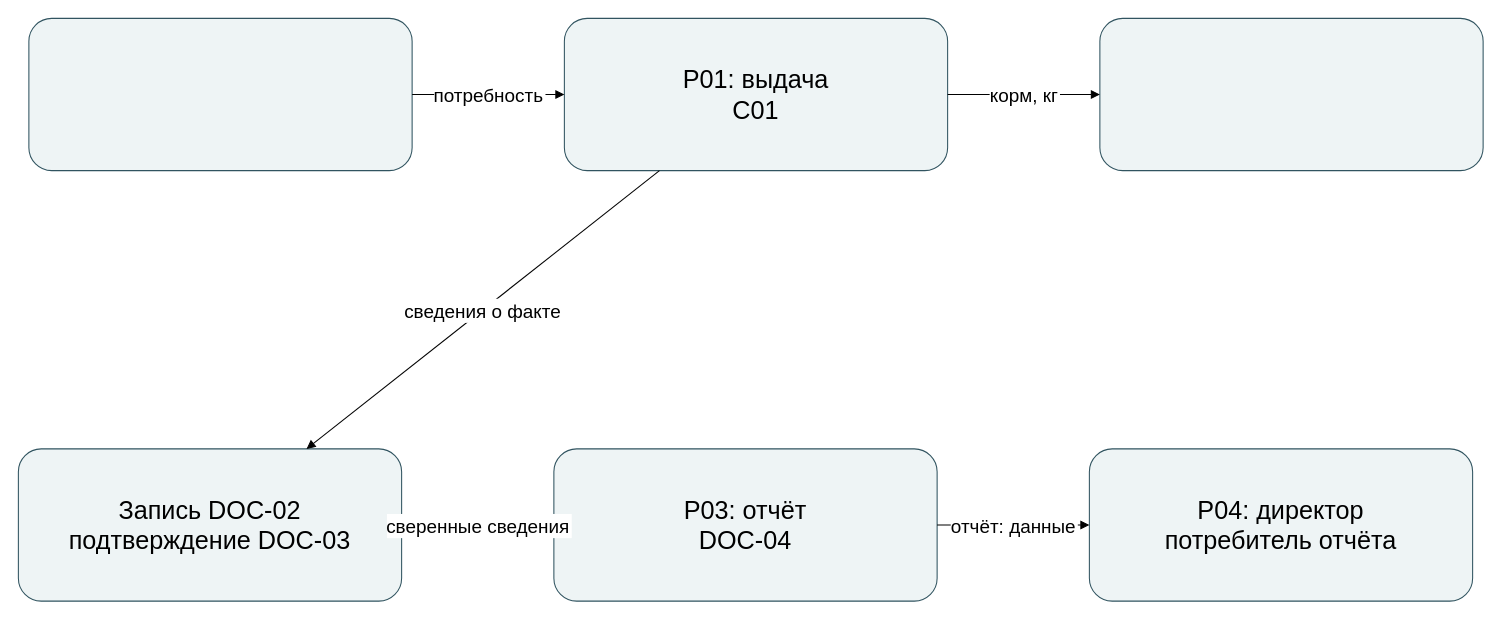
Some shapes in this 1501 by 620 pixel diagram are drawn without their labels. Here are the shapes that lost their labels. From the top down, the box of each, then its label:
(28, 17, 412, 171): Р02: потребность DOC-01
(1099, 17, 1483, 171): Группы G01/G02 получают корм
